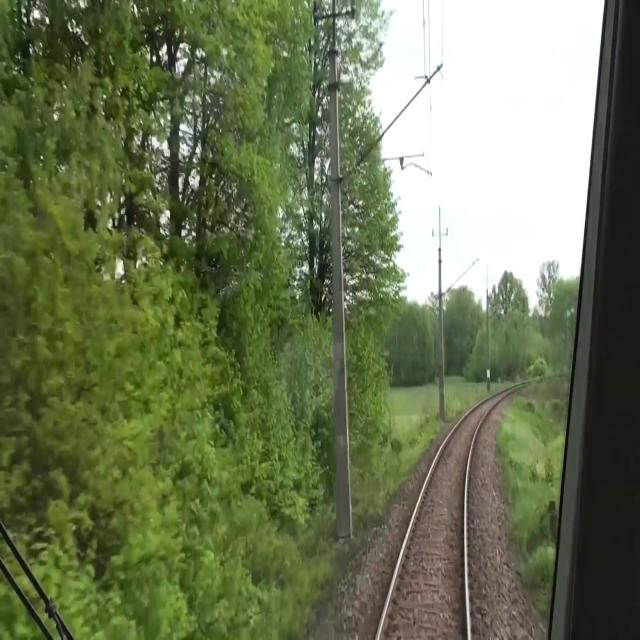rail-track: (380, 401, 491, 639)
